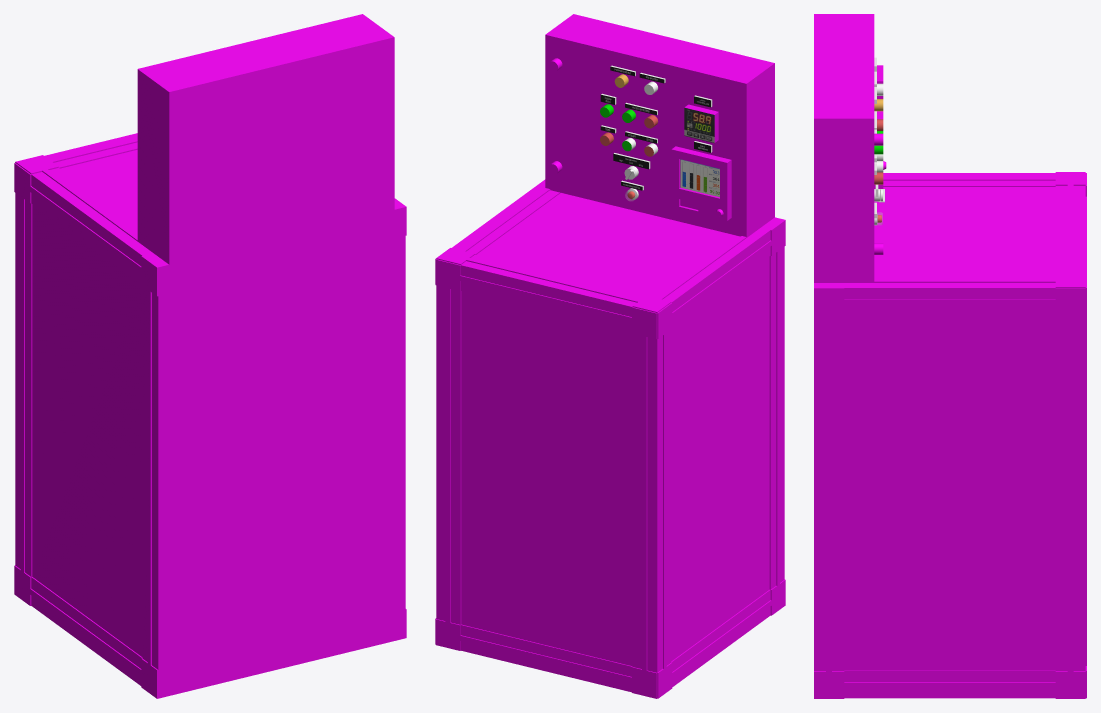
The model's file is Machine 2.3.fbx.
3 renders of one model, left to right at view 1: azimuth 30°, elevation 25°; view 2: azimuth 150°, elevation 25°; view 3: azimuth 270°, elevation 25°, orthographic. The views are drawn at different scales.
Parts seen in each view (by area): view 1: MB-ME-022.001; view 2: MB-ME-022.001; view 3: MB-ME-022.001.
Part boxes in pixels (bbox=[...]): MB-ME-022.001: bbox=[14, 14, 406, 698]; MB-ME-022.001: bbox=[435, 14, 785, 698]; MB-ME-022.001: bbox=[814, 14, 1086, 698].
Size of the model in its own units: 45.4 by 105 by 45.2.
